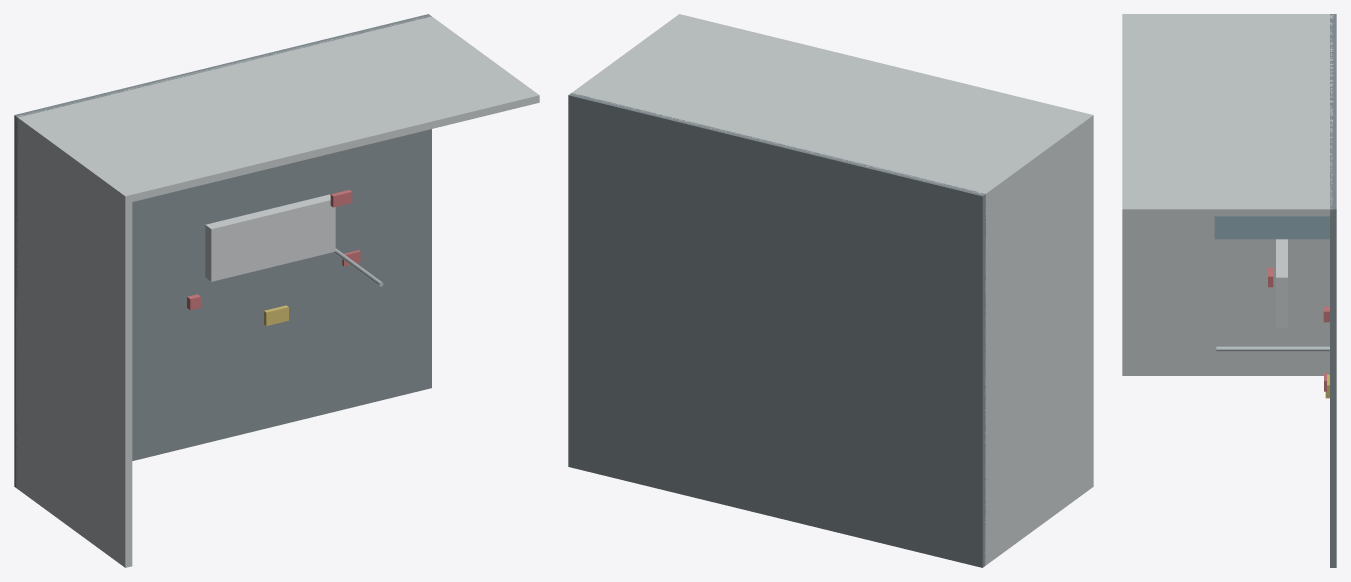
File: risk-room-high.glb
3 views of the same model, side by side, from view 1: azimuth 30°, elevation 25°; view 2: azimuth 150°, elevation 25°; view 3: azimuth 270°, elevation 25° (orthographic). The views are drawn at different scales.
Parts seen in each view (by area): view 1: floor, wall_back, wall_left, bed; view 2: floor, wall_back, wall_left; view 3: wall_back, wall_left, floor, cabinet, bed, iv_stand.
Part boxes in pixels (left/top/right/bottom): floor: left=14, top=14, right=431, bottom=487; wall_back: left=16, top=16, right=539, bottom=203; wall_left: left=16, top=115, right=132, bottom=567; bed: left=205, top=194, right=335, bottom=281; floor: left=568, top=93, right=985, bottom=567; wall_back: left=572, top=14, right=1093, bottom=201; wall_left: left=978, top=114, right=1093, bottom=565; wall_back: left=1122, top=14, right=1333, bottom=216; wall_left: left=1122, top=14, right=1333, bottom=375; floor: left=1330, top=14, right=1336, bottom=567; cabinet: left=1214, top=216, right=1329, bottom=239; bed: left=1276, top=239, right=1287, bottom=328; iv_stand: left=1216, top=346, right=1329, bottom=351.
Bounding box in the file's own units: 7 × 6 × 3.25.
